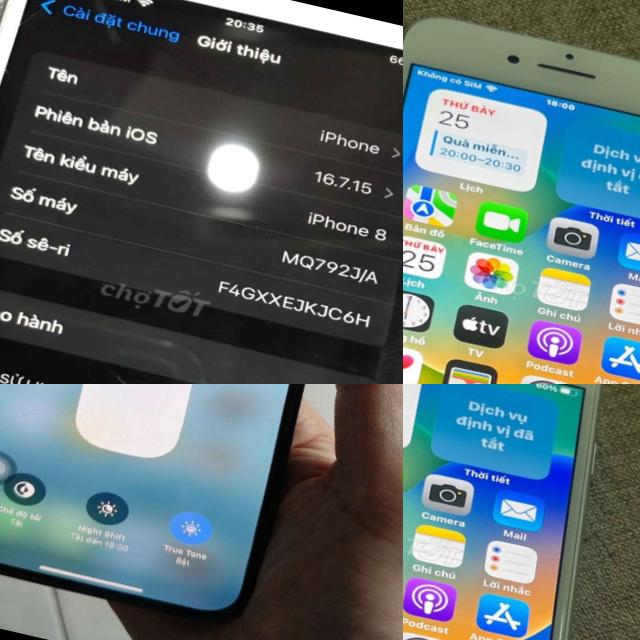gen_12_13: (0, 384, 375, 637)
gen_7_8: (0, 0, 403, 384), (403, 0, 640, 384), (403, 384, 640, 640)
